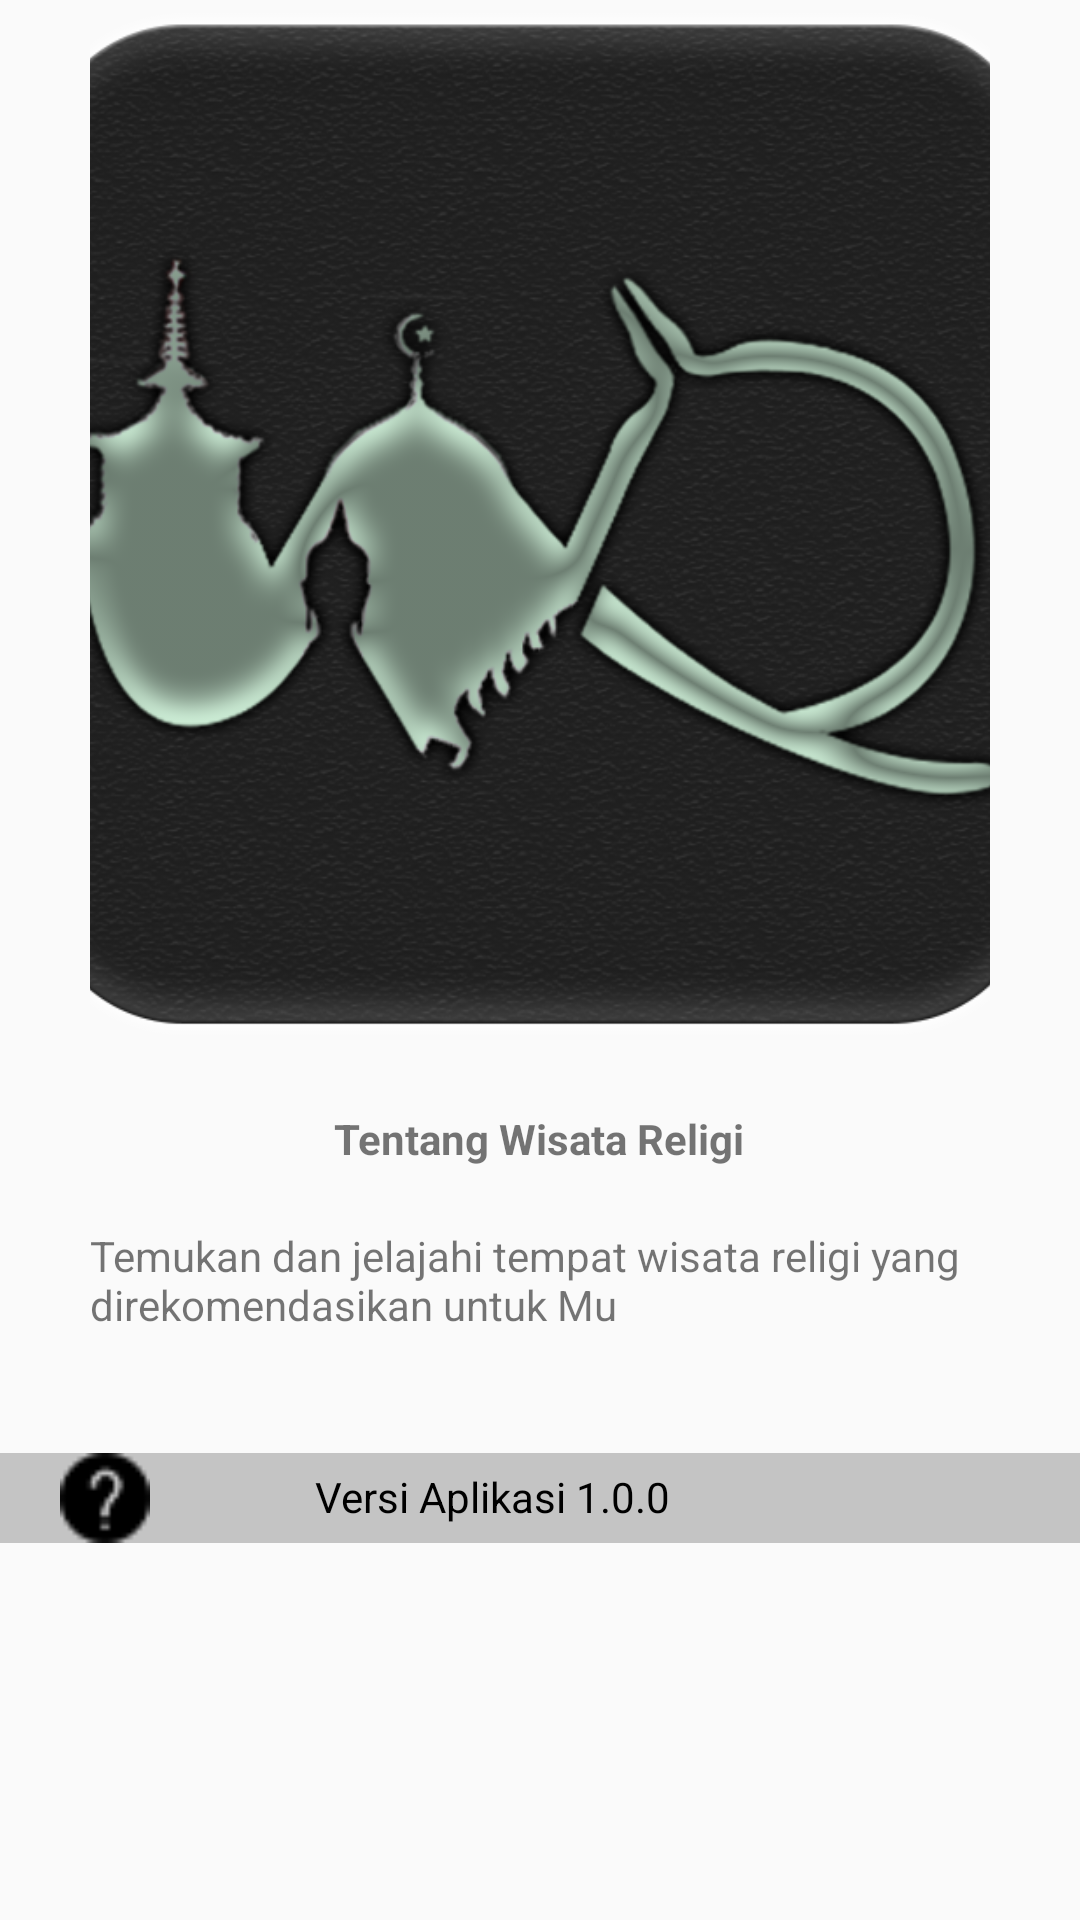

Icons on this 1080 x 1920 Android screen, each with the point to tap as (x=x, y=y):
about: (x=105, y=1498)
